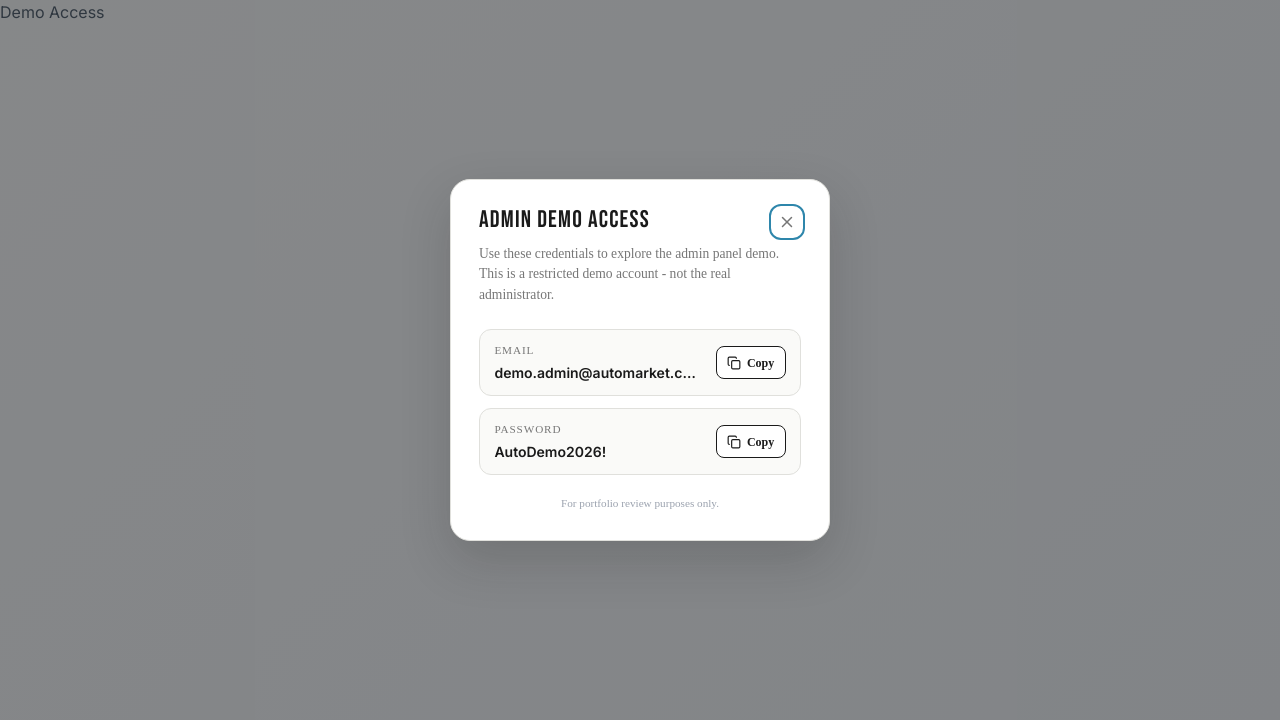
Test: DemoAccessModal - configured (VITE_DEMO_ADMIN_EMAIL/PASSWORD set) › shows "Copied" feedback after a successful copy
Click the button with aria-label "Copy email" at (751, 363), box 716,346 -> 786,379
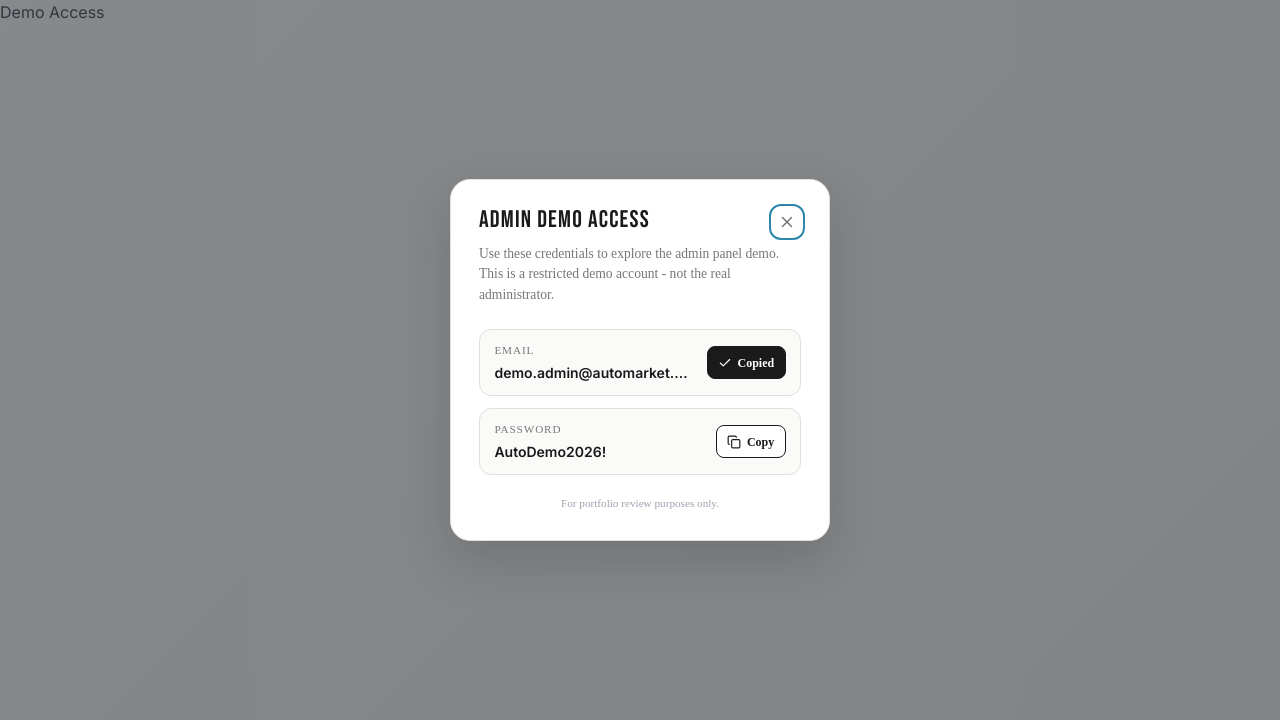
Expected: the button with aria-label "Email copied" is shown, 706,346 -> 786,379
